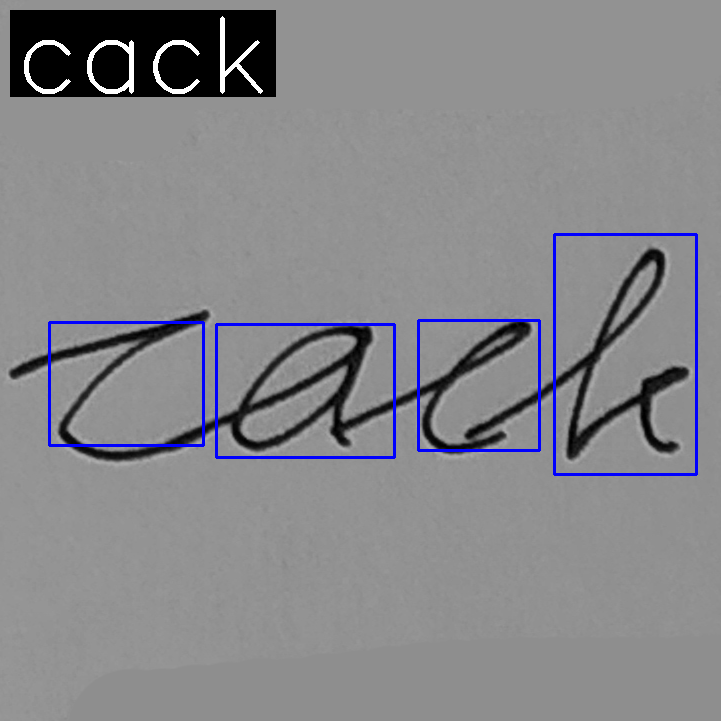a: (224, 322, 375, 453)
c: (54, 305, 214, 464), (415, 318, 536, 457)
k: (562, 244, 692, 462)
